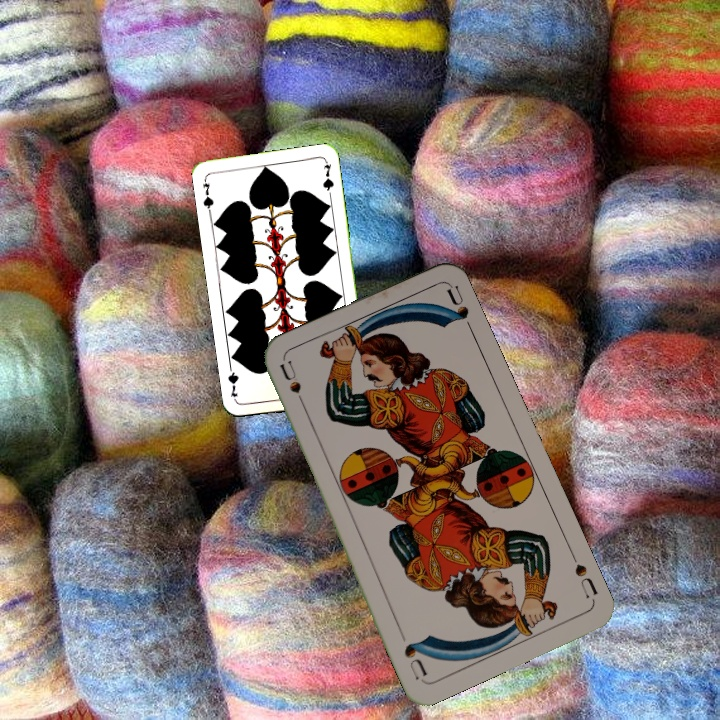G7: (199, 175, 216, 215)
SU: (275, 358, 310, 415), (570, 559, 600, 604)
